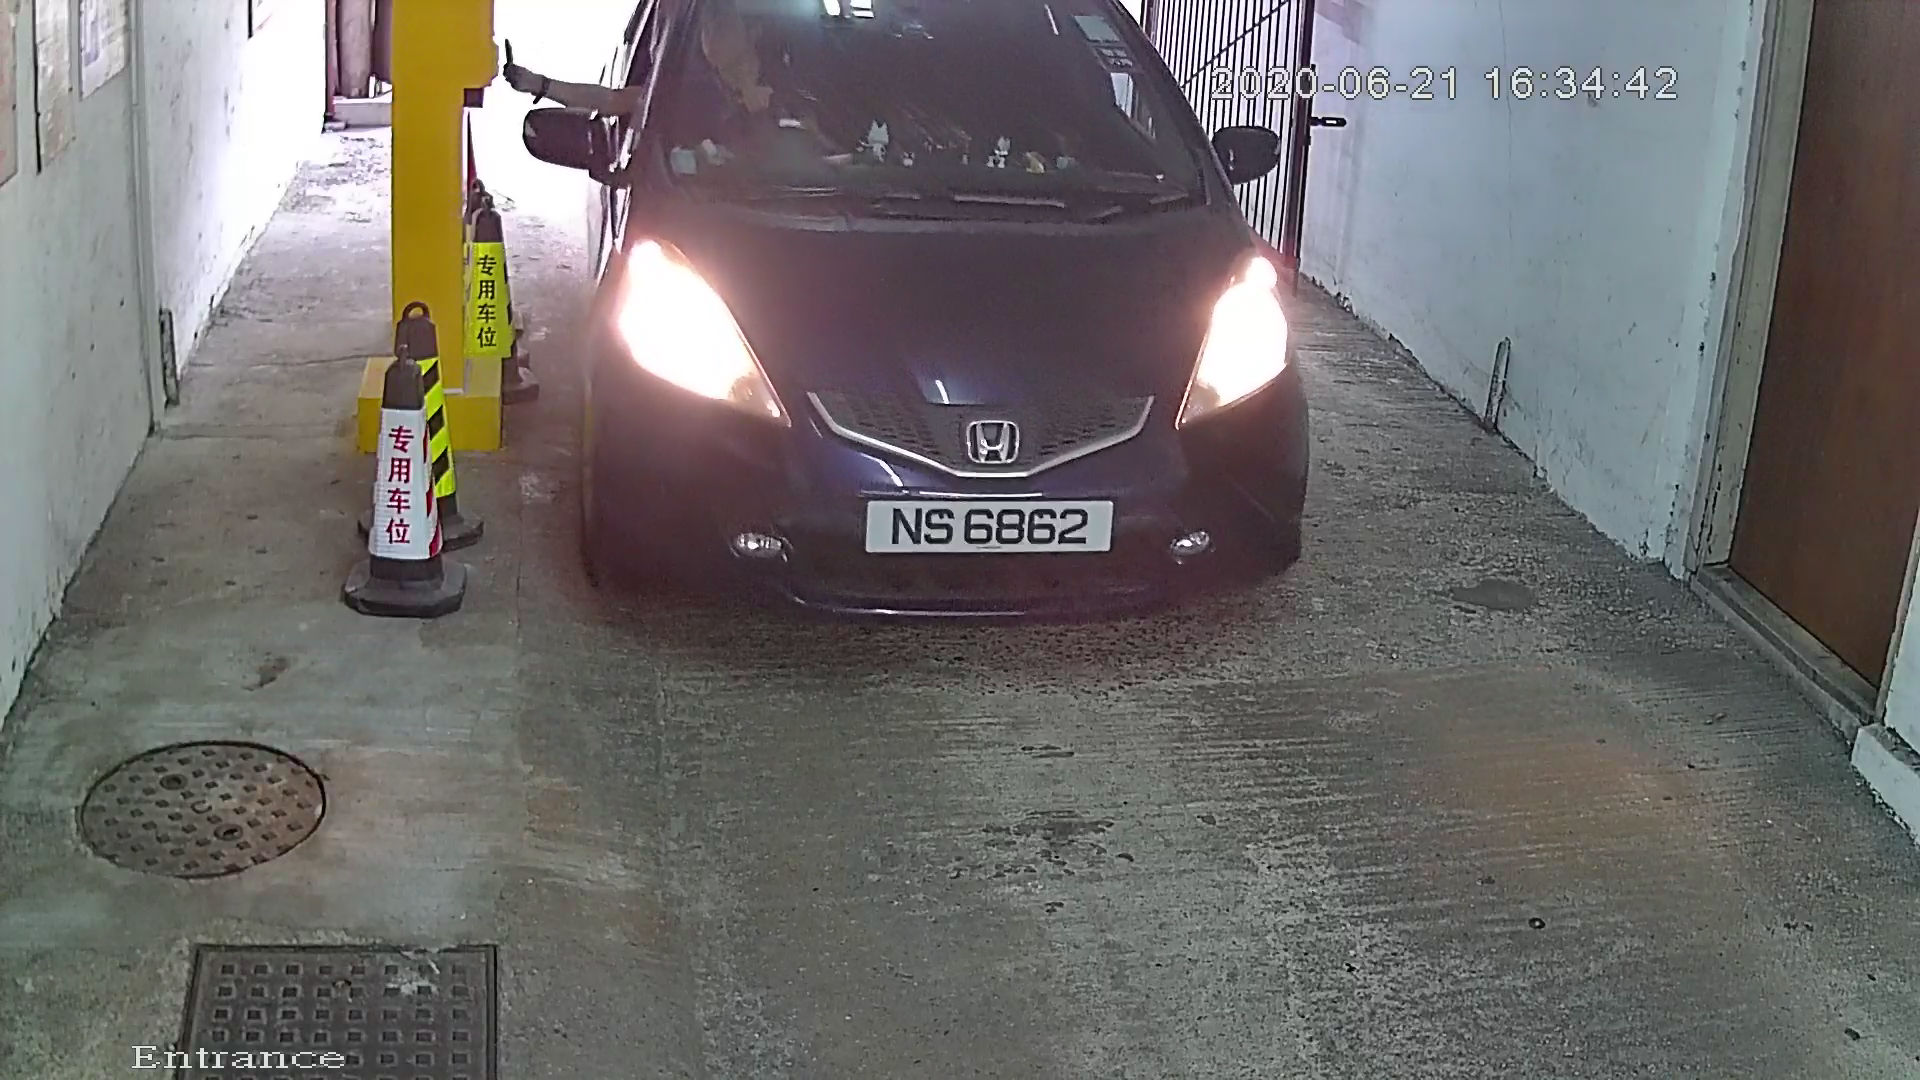privatecar: (495, 3, 1352, 659)
